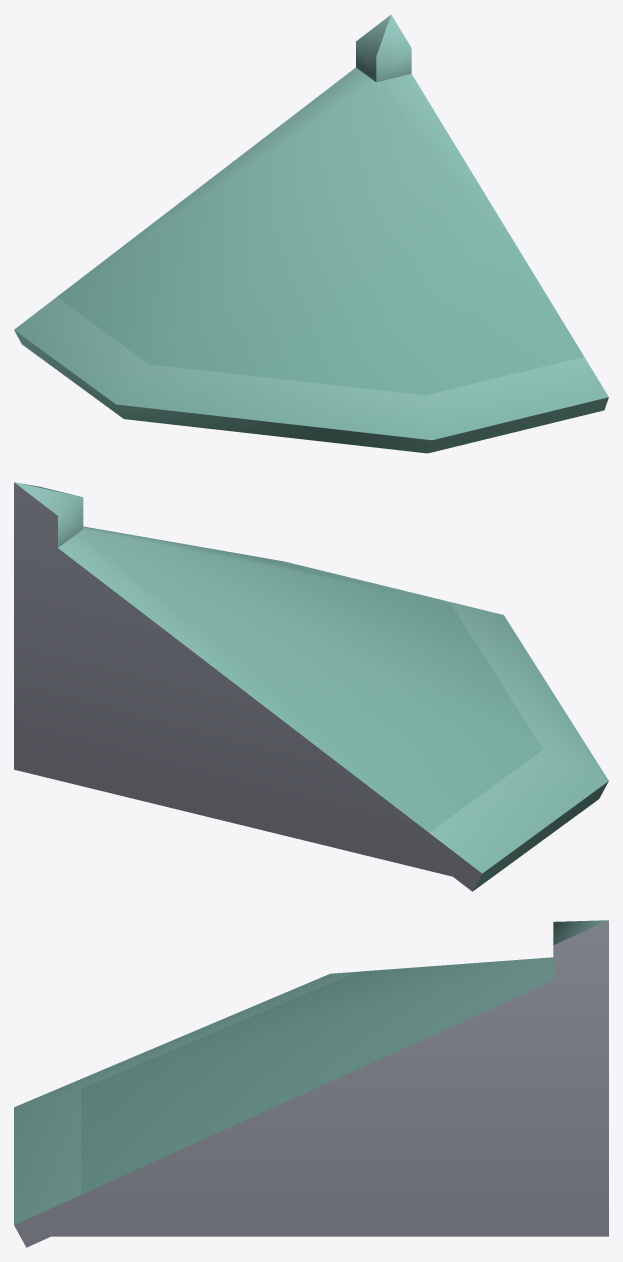
The model's file is roof-corner-round.glb.
3 views of the same model, one above another, from view 1: azimuth 30°, elevation 25°; view 2: azimuth 150°, elevation 25°; view 3: azimuth 270°, elevation 25° (orthographic). The views are drawn at different scales.
Parts seen in each view (by area): view 1: roof-corner-round; view 2: roof-corner-round; view 3: roof-corner-round.
Part boxes in pixels (box(x1,y1,x2,y2)): roof-corner-round: box(14, 15, 608, 453); roof-corner-round: box(14, 482, 608, 891); roof-corner-round: box(14, 920, 608, 1247).
Bounding box in the file's own units: 1.07 × 0.6483 × 1.07.
